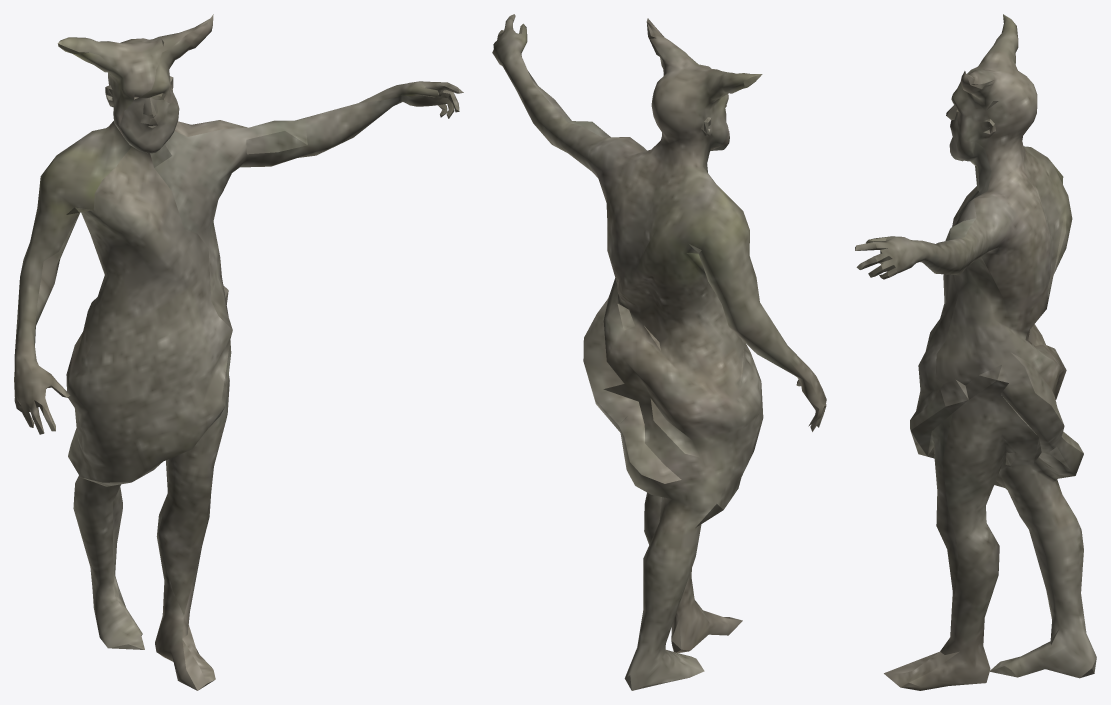
Rendered from df_statue.glb.
3 renders of one model, left to right at view 1: azimuth 30°, elevation 25°; view 2: azimuth 150°, elevation 25°; view 3: azimuth 270°, elevation 25°, orthographic. The views are drawn at different scales.
Parts seen in each view (by area): view 1: KB3D_DKF_Statue_A_Main; view 2: KB3D_DKF_Statue_A_Main; view 3: KB3D_DKF_Statue_A_Main.
Boxes of the visible parts, x1,y1,x2,y2 form: KB3D_DKF_Statue_A_Main: (14, 14, 463, 690); KB3D_DKF_Statue_A_Main: (492, 14, 826, 690); KB3D_DKF_Statue_A_Main: (855, 14, 1096, 690).
Size of the model in its own units: 0.993 by 1.56 by 0.5393.
1 material, 1 textured.
